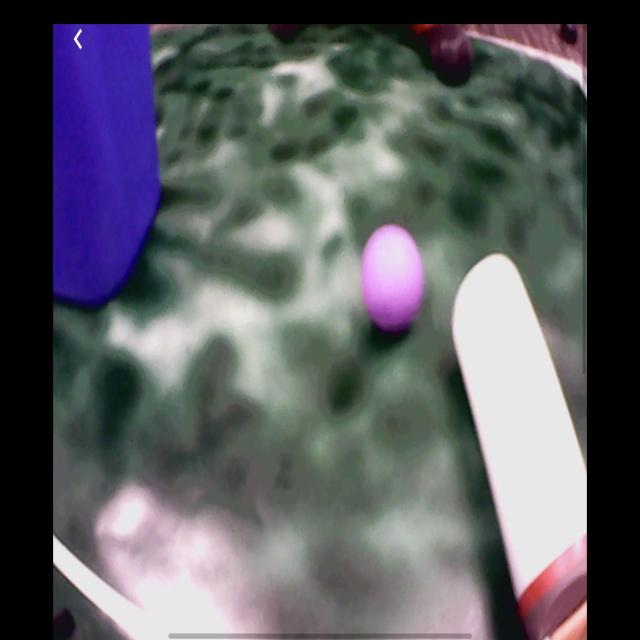ball: (363, 224, 425, 338)
